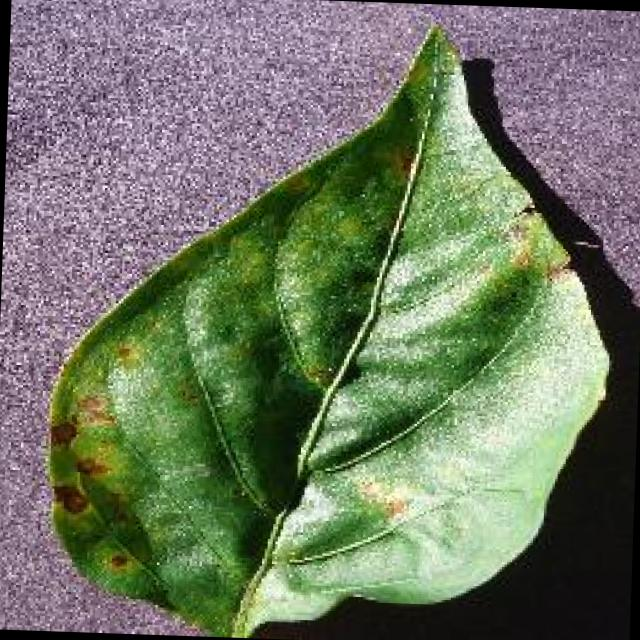Chilli_Bacterial_Spot: (34, 8, 625, 640), (38, 330, 167, 594), (496, 201, 574, 286), (351, 474, 415, 526), (72, 386, 118, 430), (48, 478, 89, 517), (384, 138, 418, 184), (295, 357, 336, 393), (68, 452, 112, 482), (43, 416, 79, 452), (376, 490, 410, 526), (108, 335, 142, 369), (101, 548, 132, 576)
